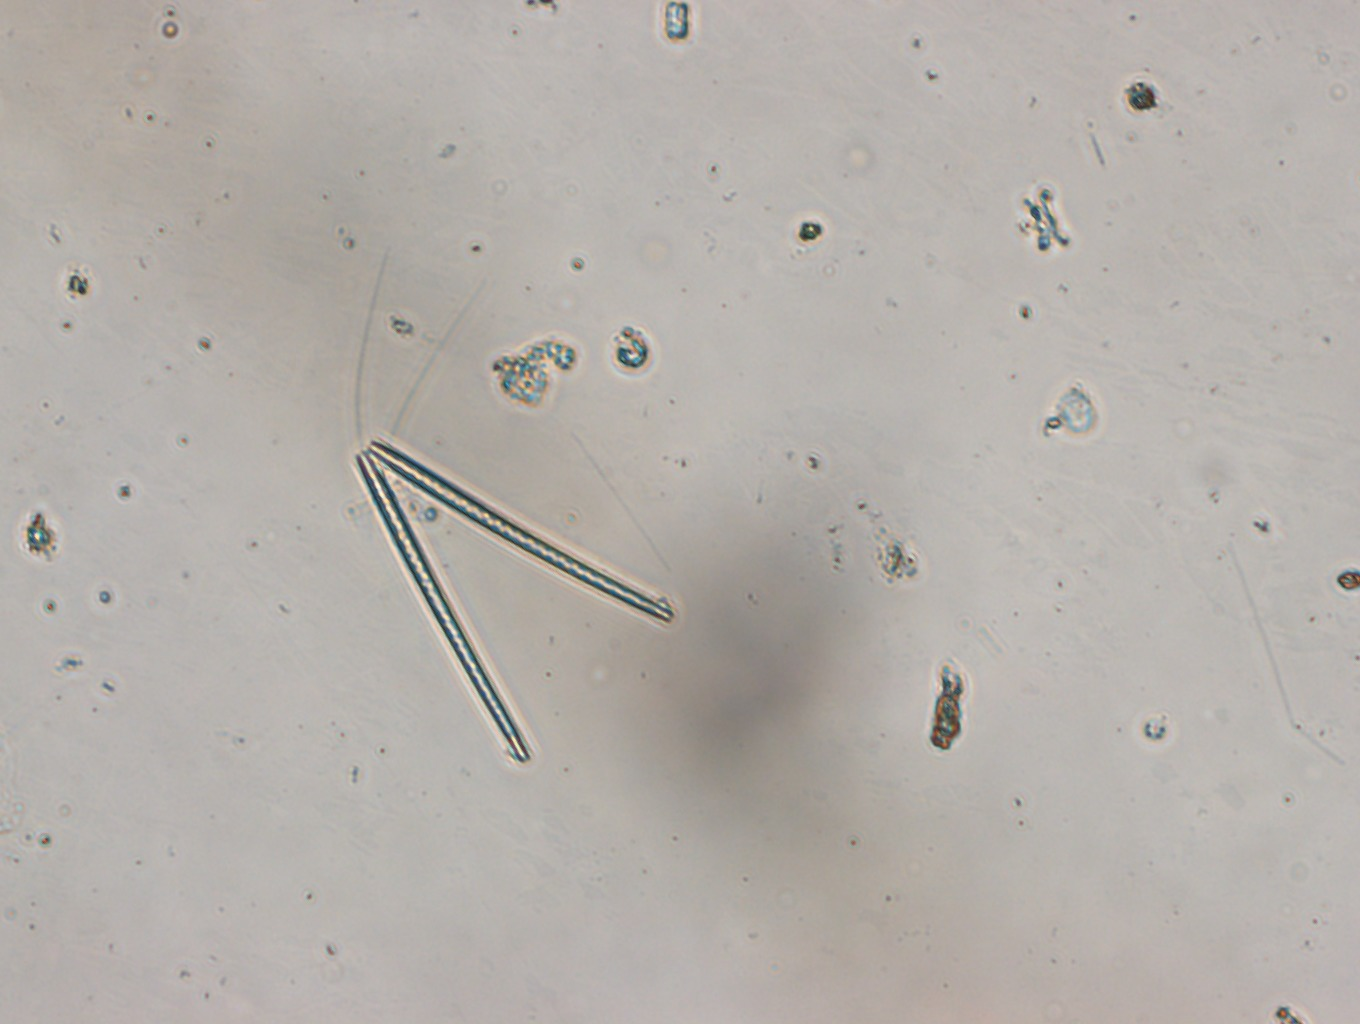thalassionema nitzschioides: (348, 437, 682, 770)
